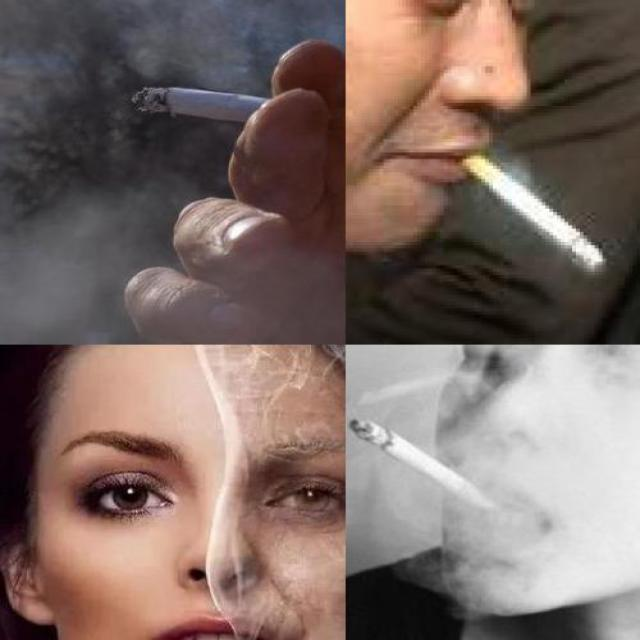smoke: (436, 139, 617, 278), (348, 417, 486, 507), (130, 84, 344, 142)
